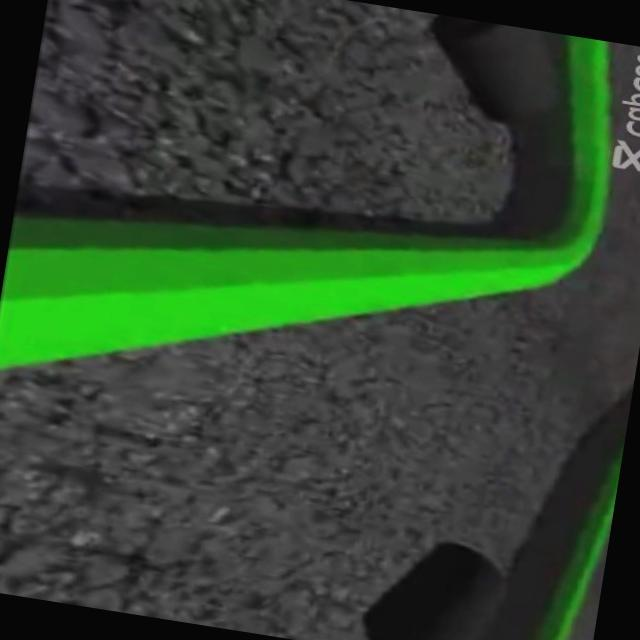gas: (0, 57, 616, 463)
